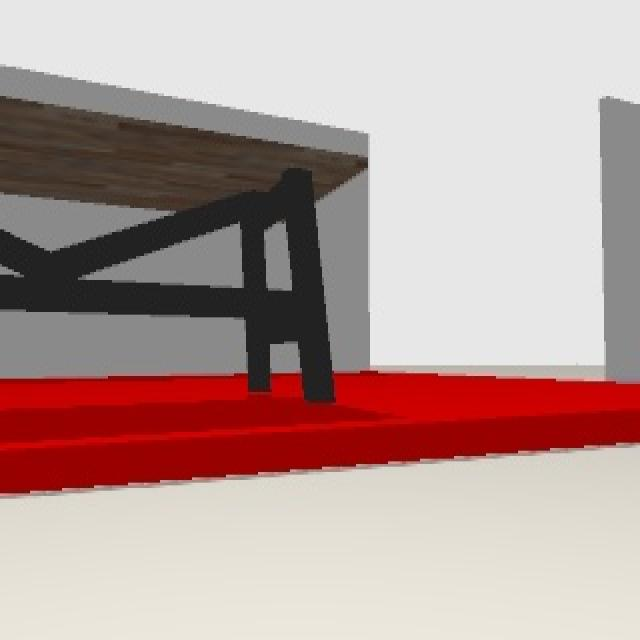dining: (1, 91, 367, 402)
